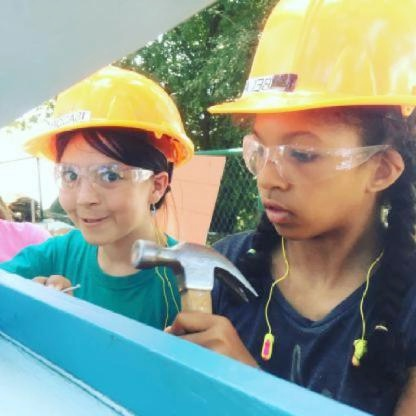yellow: (198, 7, 410, 130), (15, 60, 200, 166)
